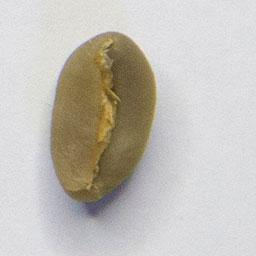premium: (48, 28, 160, 206)
